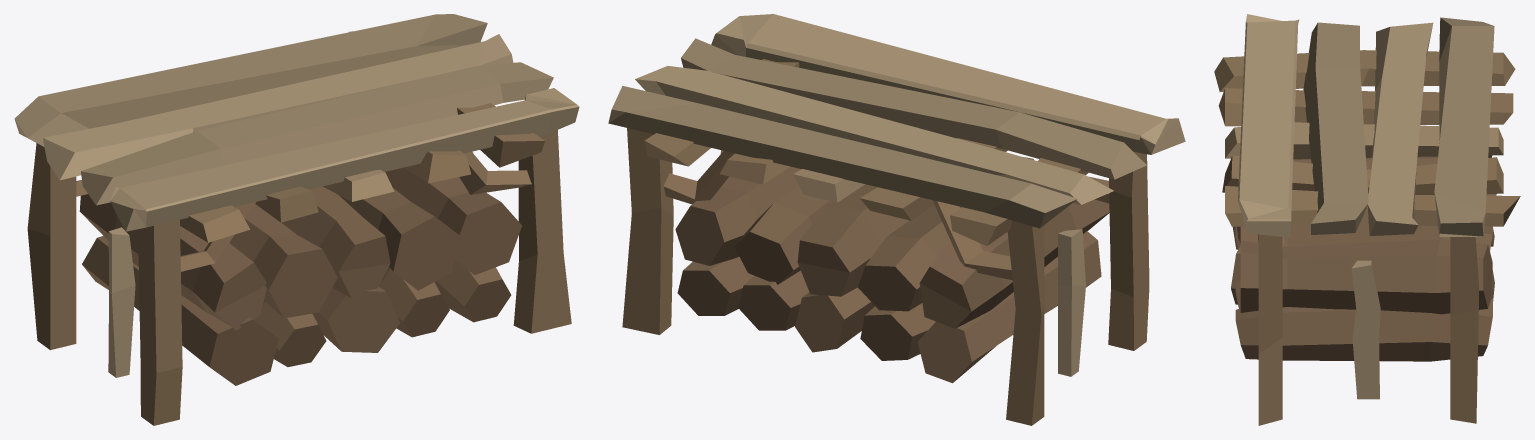
File: Model_Forest_3x2B.fbx
3 renders of one model, left to right at view 1: azimuth 30°, elevation 25°; view 2: azimuth 150°, elevation 25°; view 3: azimuth 270°, elevation 25°, orthographic. The views are drawn at different scales.
Parts seen in each view (by area): view 1: Model_Frost_3x2B; view 2: Model_Frost_3x2B; view 3: Model_Frost_3x2B.
Part boxes in pixels (x1,y1,x2,y2): Model_Frost_3x2B: (14,14,579,425); Model_Frost_3x2B: (608,14,1185,425); Model_Frost_3x2B: (1214,14,1520,425).
Size of the model in its own units: 587 by 281 by 361.
Materials: 1 (1 with a texture image).
